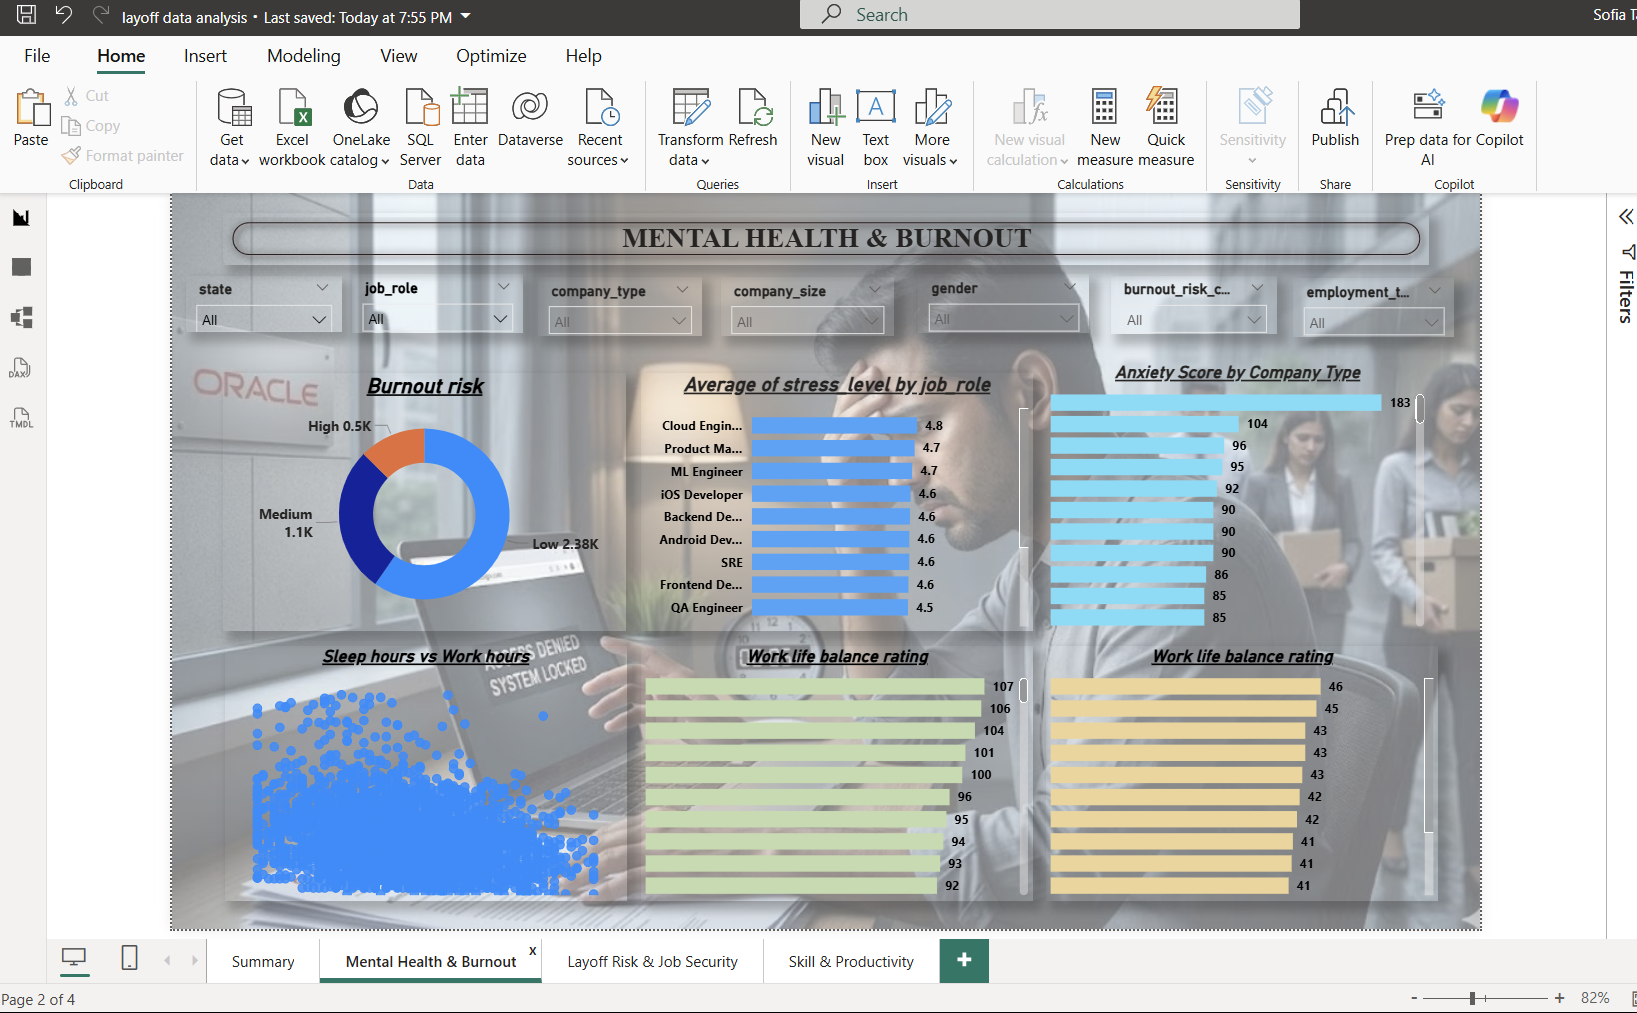

Layout of this report page (visuals, bound fields, positions):
{"tool":"powerbi","page":{"name":"Mental Health & Burnout","canvas":[1280,720],"ordinal":1},"visuals":[{"type":"shape","box":[50.1,19.6,1180,50.1],"z":0},{"type":"textbox","box":[428,24.5,425.5,45.2],"z":1000},{"type":"donutChart","title":"Burnout risk ","fields":{"Y":["CountNonNull(layoff data.burnout_risk_category)"],"Category":["layoff data.burnout_risk_category"]},"box":[50.1,176.1,393.8,253.1],"z":2000},{"type":"barChart","fields":{"Category":["layoff data.job_role"],"Y":["Avg(layoff data.stress_level)"]},"box":[458.6,176.1,384,253.1],"z":3000},{"type":"scatterChart","title":"Sleep hours vs Work hours","fields":{"Category":["layoff data.developer_id"],"Y":["Avg(layoff data.weekly_work_hours)"],"X":["Avg(layoff data.sleep_hours)"]},"box":[51.4,442.7,393.8,249.5],"z":4000},{"type":"clusteredBarChart","title":"Anxiety Score by Company Type","fields":{"Category":["layoff data.anxiety_score"],"Y":["CountNonNull(layoff data.company_type)"]},"box":[854.8,165.1,375.4,264.1],"z":5000},{"type":"barChart","title":"Work life balance rating","fields":{"Category":["layoff data.work_life_balance_rating"],"Y":["CountNonNull(layoff data.developer_id)"]},"box":[458.6,442.7,384,249.5],"z":6000},{"type":"barChart","title":"Work life balance rating","fields":{"Y":["layoff data.% Mentally exhausted"],"Category":["layoff data.job_role"]},"box":[854.8,442.7,384,249.5],"z":7000},{"type":"slicer","fields":{"Values":["layoff data.state"]},"box":[13.5,80.9,152.9,55],"z":7001},{"type":"slicer","fields":{"Values":["layoff data.job_role"]},"box":[176.1,79.7,167.5,57.5],"z":7002},{"type":"slicer","fields":{"Values":["layoff data.company_type"]},"box":[358.3,82.2,160.2,57.5],"z":7003},{"type":"slicer","fields":{"Values":["layoff data.company_size"]},"box":[536.8,82.2,170,57.5],"z":7004},{"type":"slicer","fields":{"Values":["layoff data.gender"]},"box":[730,79.7,167.5,57.5],"z":7005},{"type":"slicer","fields":{"Values":["layoff data.burnout_risk_category"]},"box":[918.3,80.9,162.6,57.5],"z":7006},{"type":"slicer","fields":{"Values":["layoff data.employment_type"]},"box":[1096.9,83.4,157.7,57.5],"z":7007}]}

Visuals, with their boxes on the page's 1280x720 design canvas (x1, y1, x2, y2). These are canvas units, not pixel positions in the 1637x1013 screenshot, which may show the page scaled, cropped or inside an application window:
shape: <bbox>50, 20, 1230, 70</bbox>
textbox: <bbox>428, 24, 854, 70</bbox>
"Burnout risk " donutChart: <bbox>50, 176, 444, 429</bbox>
barChart - layoff data.job_role x Avg(layoff data.stress_level): <bbox>459, 176, 843, 429</bbox>
"Sleep hours vs Work hours" scatterChart: <bbox>51, 443, 445, 692</bbox>
"Anxiety Score by Company Type" clusteredBarChart: <bbox>855, 165, 1230, 429</bbox>
"Work life balance rating" barChart: <bbox>459, 443, 843, 692</bbox>
"Work life balance rating" barChart: <bbox>855, 443, 1239, 692</bbox>
slicer - layoff data.state: <bbox>14, 81, 166, 136</bbox>
slicer - layoff data.job_role: <bbox>176, 80, 344, 137</bbox>
slicer - layoff data.company_type: <bbox>358, 82, 518, 140</bbox>
slicer - layoff data.company_size: <bbox>537, 82, 707, 140</bbox>
slicer - layoff data.gender: <bbox>730, 80, 898, 137</bbox>
slicer - layoff data.burnout_risk_category: <bbox>918, 81, 1081, 138</bbox>
slicer - layoff data.employment_type: <bbox>1097, 83, 1255, 141</bbox>
